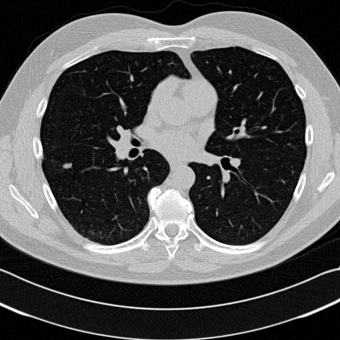nodule: (63, 162, 71, 170)
